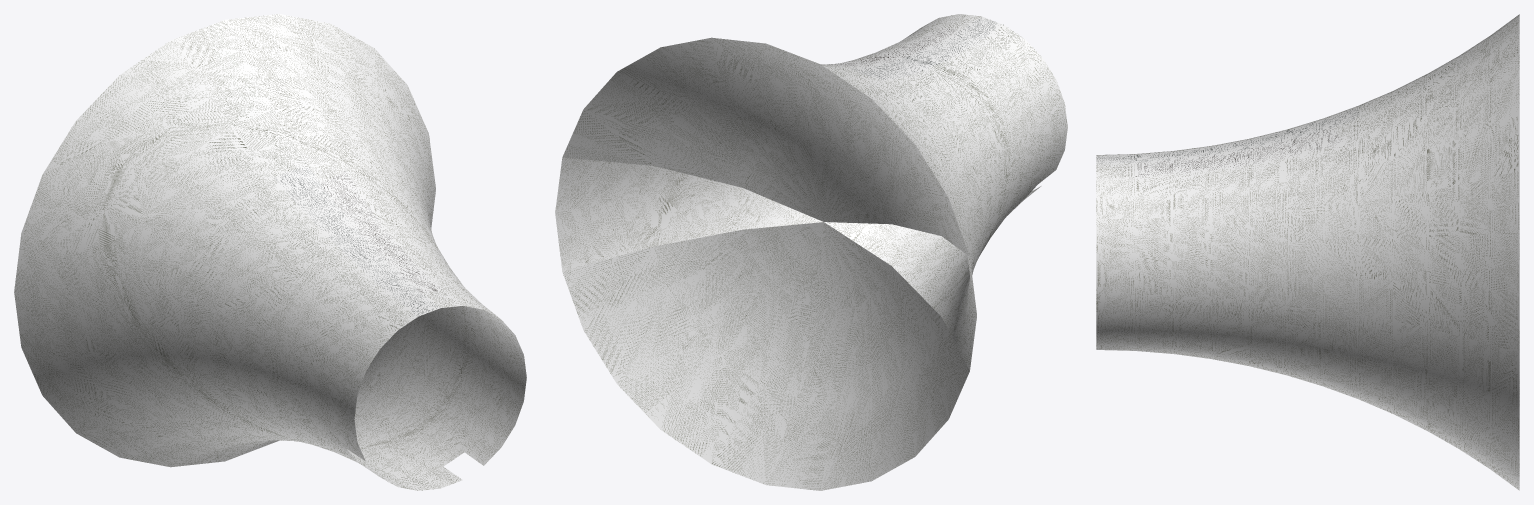
The model's file is original-2.obj.
3 renders of one model, left to right at view 1: azimuth 30°, elevation 25°; view 2: azimuth 150°, elevation 25°; view 3: azimuth 270°, elevation 25°, orthographic.
Parts seen in each view (by area): view 1: mesh2/mesh2-geometry#mesh2-geometry; view 2: mesh2/mesh2-geometry#mesh2-geometry; view 3: mesh2/mesh2-geometry#mesh2-geometry.
Boxes of the visible parts, bbox=[...] form: mesh2/mesh2-geometry#mesh2-geometry: bbox=[14, 14, 526, 490]; mesh2/mesh2-geometry#mesh2-geometry: bbox=[555, 14, 1067, 490]; mesh2/mesh2-geometry#mesh2-geometry: bbox=[1096, 14, 1519, 490].
Size of the model in its own units: 0.3393 by 0.3393 by 0.3001.
